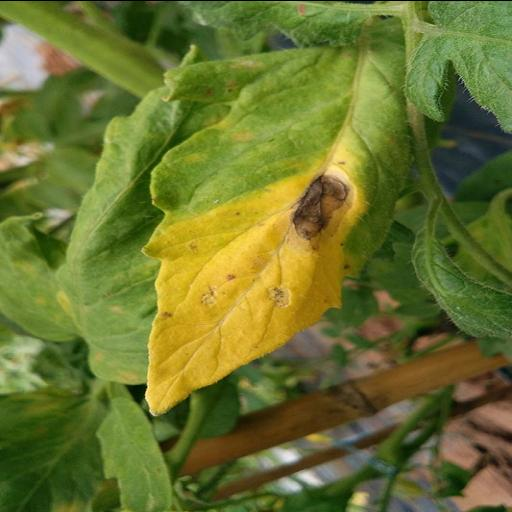disease_tomato: (140, 44, 417, 419)
